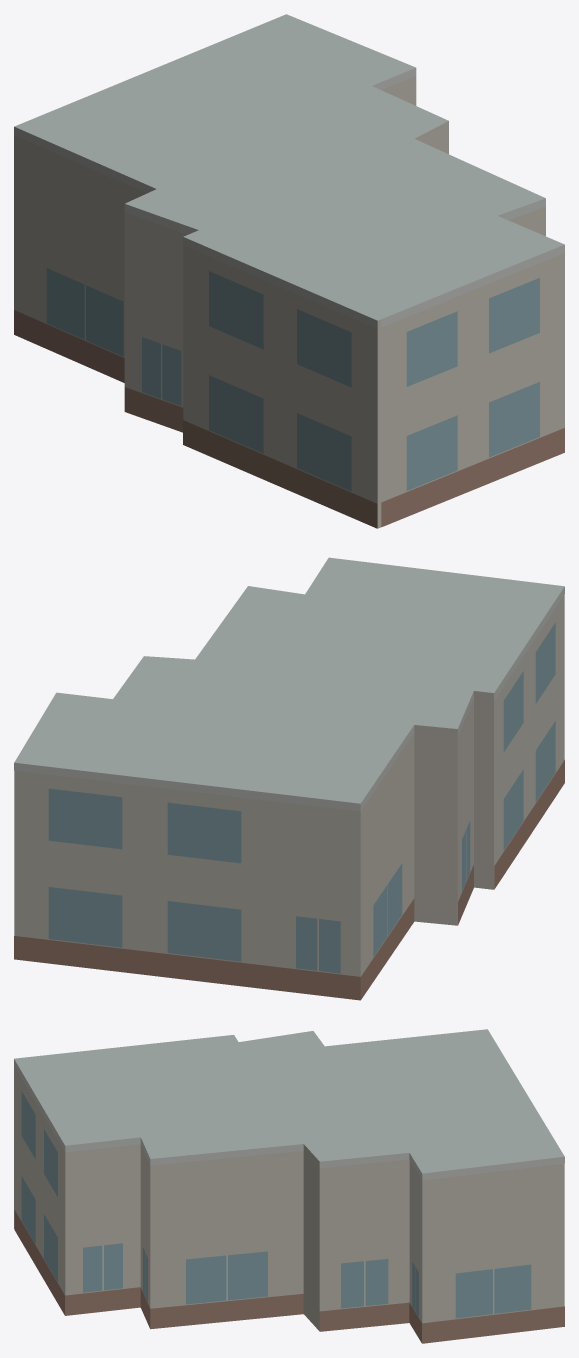
Rendered from survey-upis-32604769.glb.
3 renders of one model, top to bottom at view 1: azimuth 30°, elevation 25°; view 2: azimuth 150°, elevation 25°; view 3: azimuth 270°, elevation 25°, orthographic. The views are drawn at different scales.
Parts seen in each view (by area): view 1: survey-upis-32604769.tmp; view 2: survey-upis-32604769.tmp; view 3: survey-upis-32604769.tmp.
Boxes of the visible parts, left/top/right/bottom form: survey-upis-32604769.tmp: left=14, top=14, right=564, bottom=528; survey-upis-32604769.tmp: left=14, top=557, right=564, bottom=1000; survey-upis-32604769.tmp: left=14, top=1029, right=564, bottom=1343.
Size of the model in its own units: 11.12 by 6.1 by 17.91.
